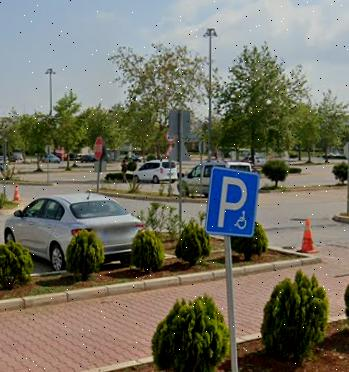disabledpark: (212, 168, 258, 236)
